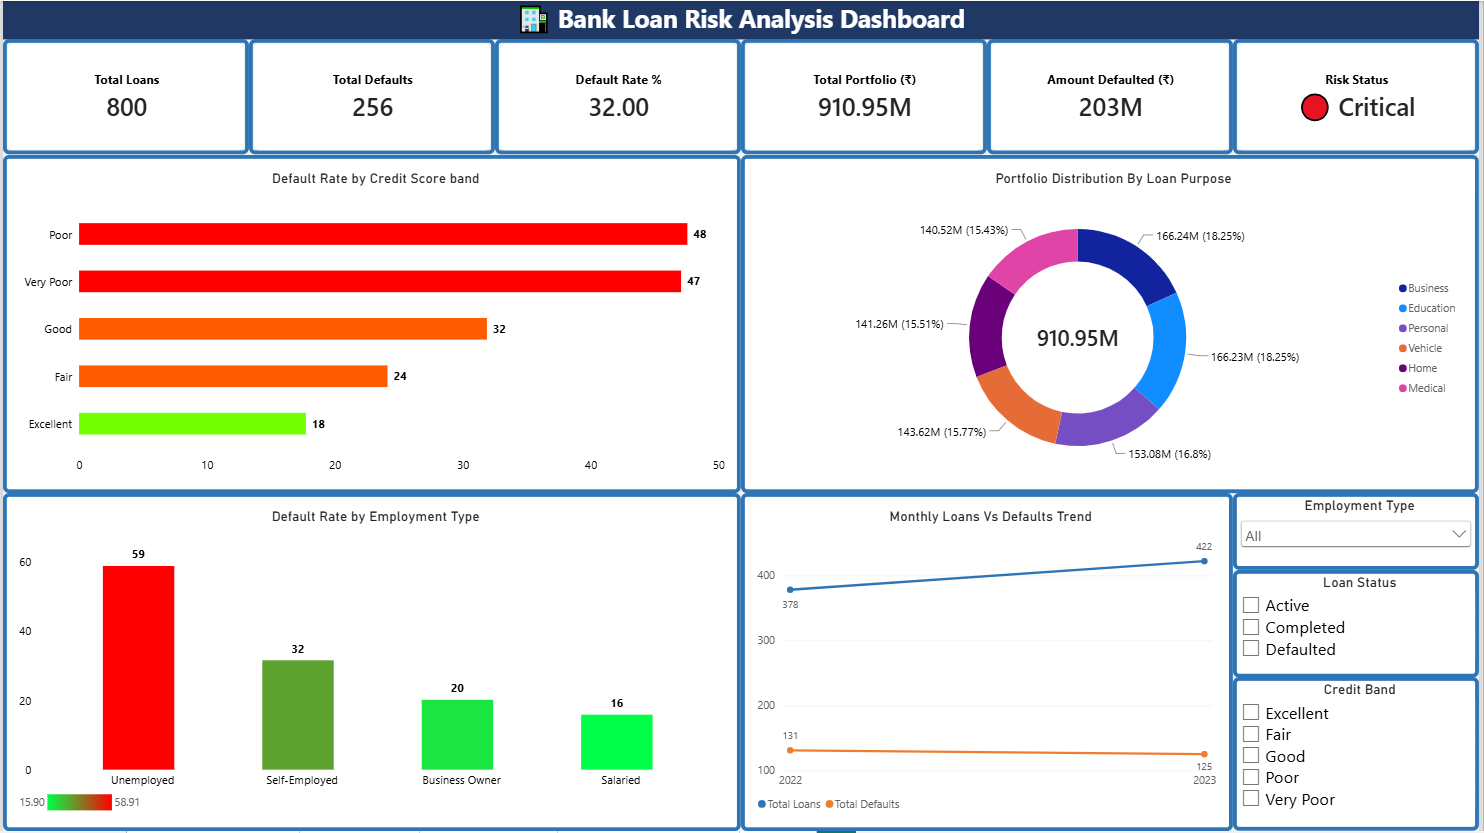

Layout of this report page (visuals, bound fields, positions):
{"tool":"powerbi","page":{"name":"Executive Risk Summary","canvas":[1920,1080],"ordinal":0},"visuals":[{"type":"textbox","box":[0,0,1920.6,50],"z":0},{"type":"cardVisual","fields":{"Data":["bank_loan vw_customer_risk.Total Loans"]},"box":[0,50,320,150],"z":1000},{"type":"cardVisual","fields":{"Data":["bank_loan vw_customer_risk.Total Defaulted Amount"]},"box":[1280.4,50,320,150],"z":2000},{"type":"cardVisual","fields":{"Data":["bank_loan vw_customer_risk.Total Portfolio Value"]},"box":[960.3,50,320,150],"z":3000},{"type":"cardVisual","fields":{"Data":["bank_loan vw_customer_risk.Default Rate %"]},"box":[640.2,50,320,150],"z":4000},{"type":"cardVisual","fields":{"Data":["bank_loan vw_customer_risk.Total Defaults"]},"box":[320.1,50,320,150],"z":5000},{"type":"cardVisual","fields":{"Data":["bank_loan vw_customer_risk.Default Rate Status"]},"box":[1600.5,50,320,150],"z":6000},{"type":"clusteredBarChart","title":"Default Rate by Credit Score band","fields":{"Category":["bank_loan vw_customer_risk.credit_band"],"Y":["bank_loan vw_customer_risk.Default Rate %"]},"box":[0,200.4,960.3,440],"z":7000},{"type":"donutChart","title":"Portfolio Distribution By Loan Purpose","fields":{"Category":["bank_loan vw_loan_portfolio.loan_purpose"],"Y":["bank_loan vw_customer_risk.Total Portfolio Value"]},"box":[960.3,200.4,960,440],"z":8000},{"type":"clusteredColumnChart","title":"Default Rate  by Employment Type","fields":{"Category":["bank_loan vw_loan_portfolio.employment_type"],"Y":["bank_loan vw_customer_risk.Default Rate %"]},"box":[0,640.2,960,440],"z":8001},{"type":"lineChart","title":"Monthly Loans Vs Defaults Trend","fields":{"Category":["bank_loan vw_loan_portfolio.issue_date.Variation.Date Hierarchy.Year","bank_loan vw_loan_portfolio.issue_date.Variation.Date Hierarchy.Quarter","bank_loan vw_loan_portfolio.issue_date.Variation.Date Hierarchy.Month","bank_loan vw_loan_portfolio.issue_date.Variation.Date Hierarchy.Day"],"Y":["bank_loan vw_customer_risk.Total Loans","bank_loan vw_customer_risk.Total Defaults"]},"box":[960.3,640.2,640,440],"z":8002},{"type":"slicer","title":"Employment Type","fields":{"Values":["bank_loan vw_loan_portfolio.employment_type"]},"box":[1600.5,640.2,320,100],"z":8003},{"type":"slicer","title":"Loan Status","fields":{"Values":["bank_loan vw_loan_portfolio.loan_status"]},"box":[1600.5,740,320,140],"z":8004},{"type":"slicer","title":"Credit Band","fields":{"Values":["bank_loan vw_loan_portfolio.credit_band"]},"box":[1600.5,880,320,200],"z":8005}]}

Visuals, with their boxes in screenshot pixels (x1, y1, x2, y2), scaled from the page's 1920x1080 canvas onto the 1484x833 screenshot:
textbox: [x1=0, y1=0, x2=1483, y2=39]
cardVisual - bank_loan vw_customer_risk.Total Loans: [x1=0, y1=39, x2=247, y2=154]
cardVisual - bank_loan vw_customer_risk.Total Defaulted Amount: [x1=990, y1=39, x2=1237, y2=154]
cardVisual - bank_loan vw_customer_risk.Total Portfolio Value: [x1=742, y1=39, x2=990, y2=154]
cardVisual - bank_loan vw_customer_risk.Default Rate %: [x1=495, y1=39, x2=742, y2=154]
cardVisual - bank_loan vw_customer_risk.Total Defaults: [x1=247, y1=39, x2=495, y2=154]
cardVisual - bank_loan vw_customer_risk.Default Rate Status: [x1=1237, y1=39, x2=1483, y2=154]
"Default Rate by Credit Score band" clusteredBarChart: [x1=0, y1=155, x2=742, y2=494]
"Portfolio Distribution By Loan Purpose" donutChart: [x1=742, y1=155, x2=1483, y2=494]
"Default Rate  by Employment Type" clusteredColumnChart: [x1=0, y1=494, x2=742, y2=832]
"Monthly Loans Vs Defaults Trend" lineChart: [x1=742, y1=494, x2=1237, y2=832]
"Employment Type" slicer: [x1=1237, y1=494, x2=1483, y2=571]
"Loan Status" slicer: [x1=1237, y1=571, x2=1483, y2=679]
"Credit Band" slicer: [x1=1237, y1=679, x2=1483, y2=832]
